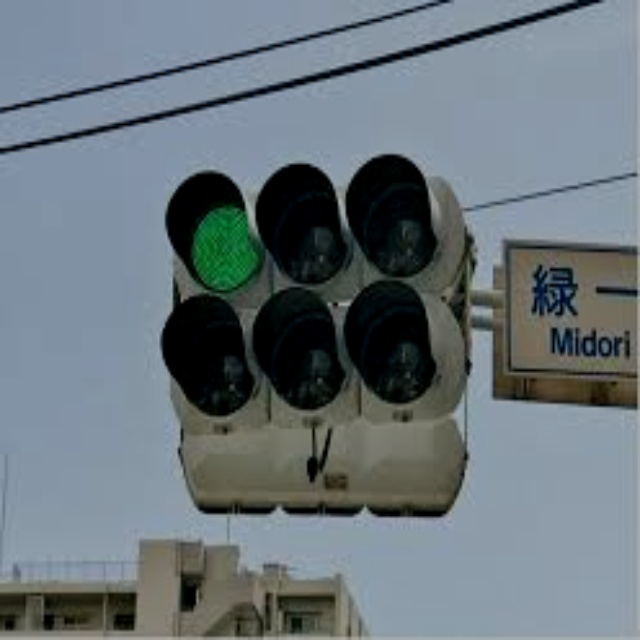green_light: (180, 204, 260, 291)
